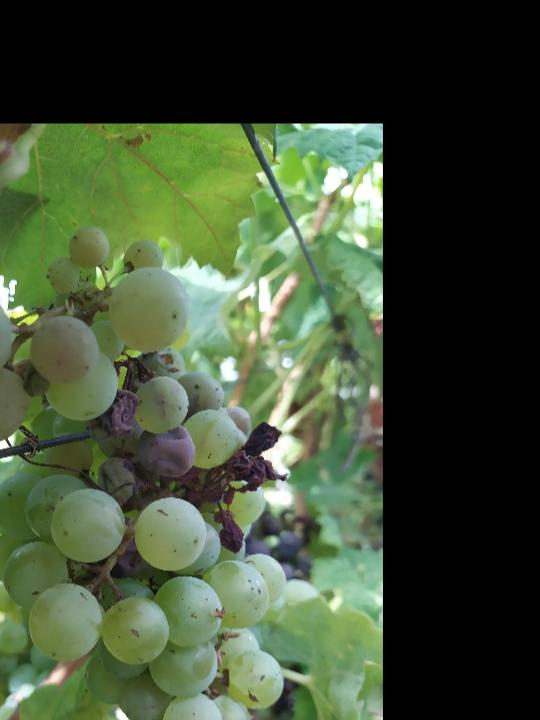grape: (0, 223, 291, 720)
